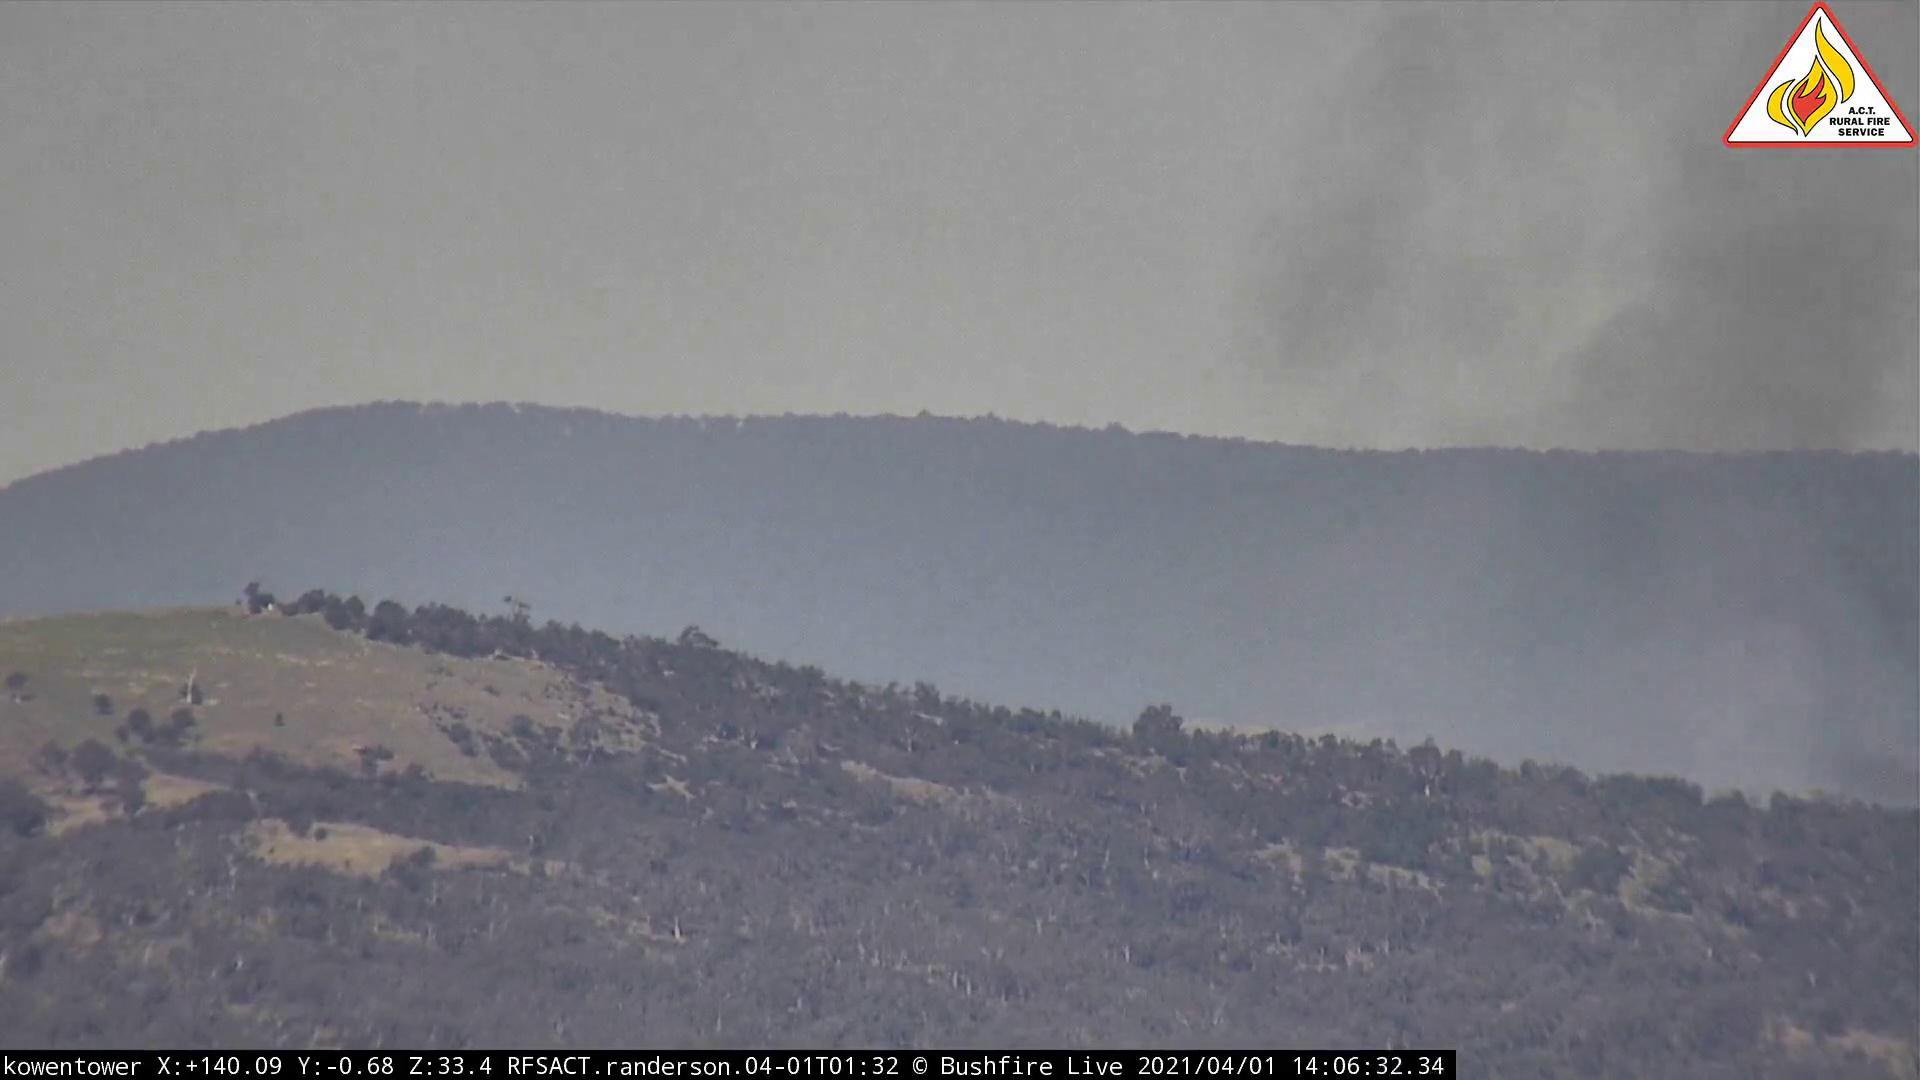Smoke: (1185, 179, 1920, 829)
